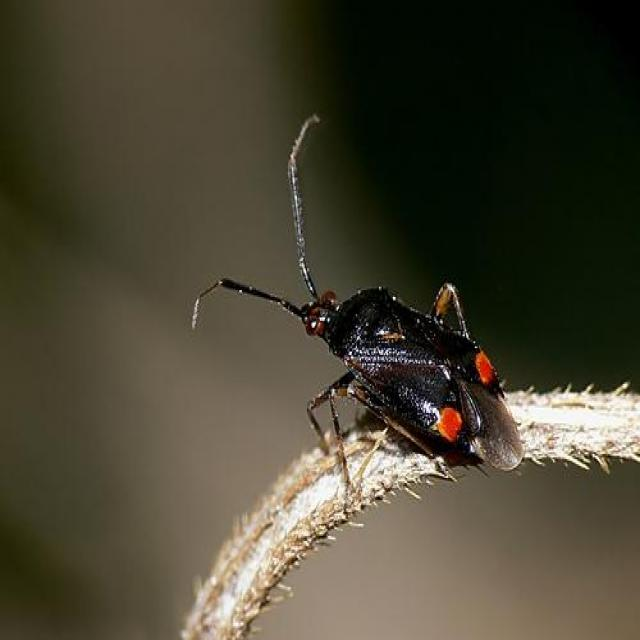Miridae-Adult-: (182, 105, 529, 498)
